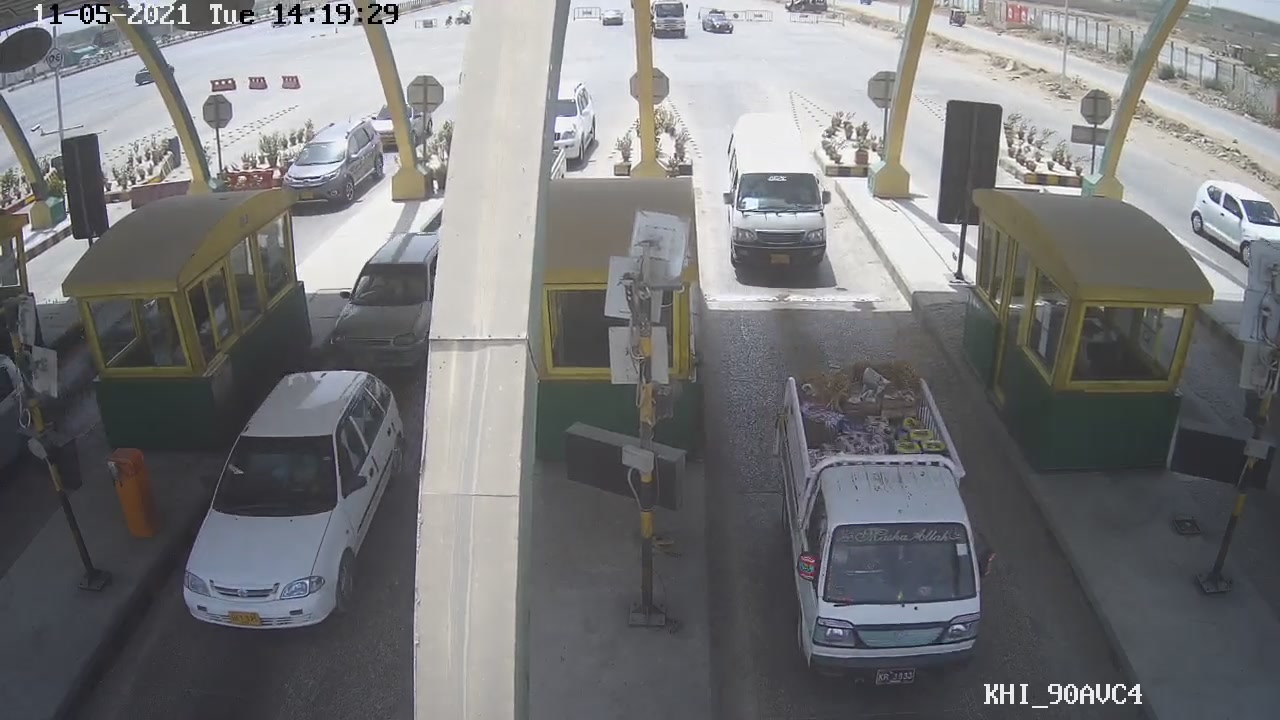F1: (773, 362, 988, 689)
F2: (716, 112, 845, 289)
